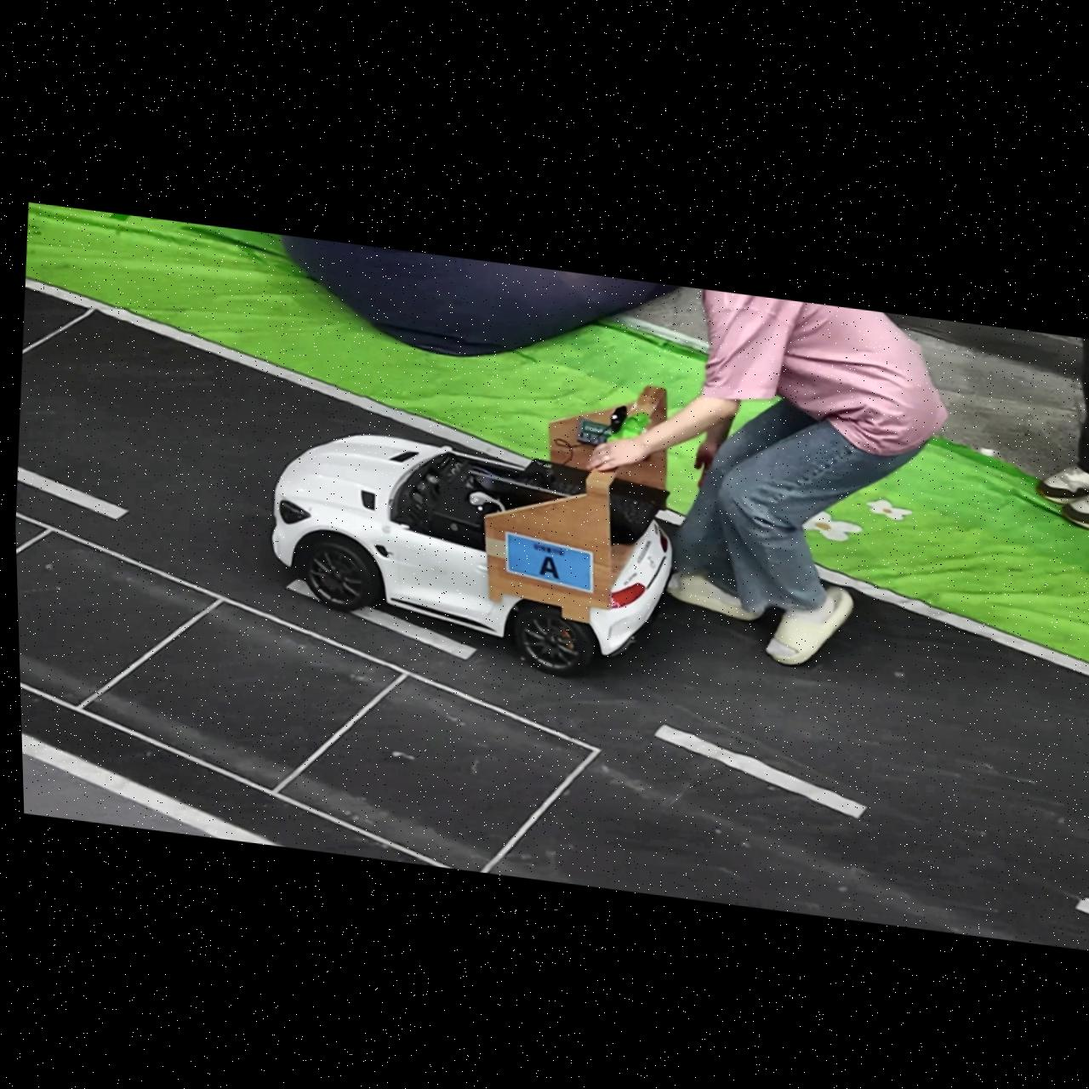broken_line: (655, 725, 866, 818), (351, 607, 478, 660), (17, 467, 128, 520), (285, 579, 320, 600), (1076, 897, 1089, 914)
